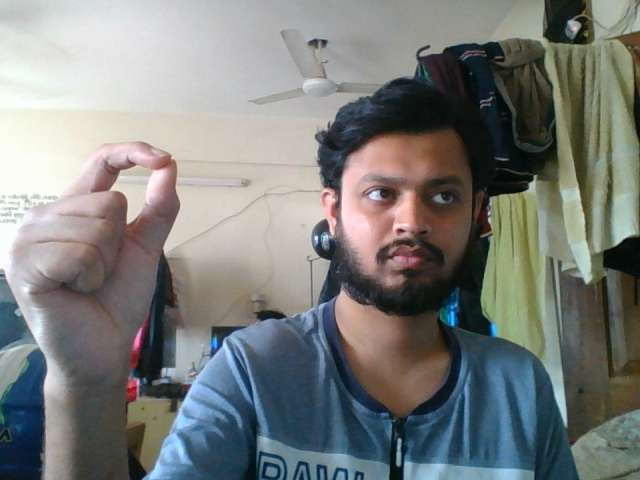gha: (3, 138, 180, 428)
